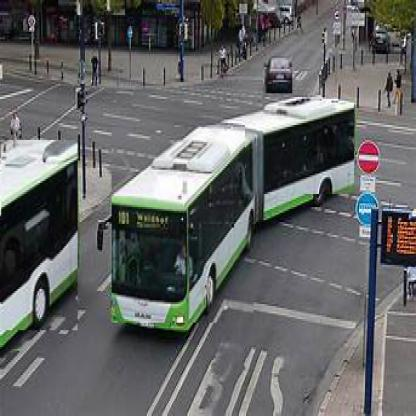bus: (113, 128, 256, 325), (2, 141, 80, 333), (246, 103, 356, 197)
car: (264, 57, 295, 96)
